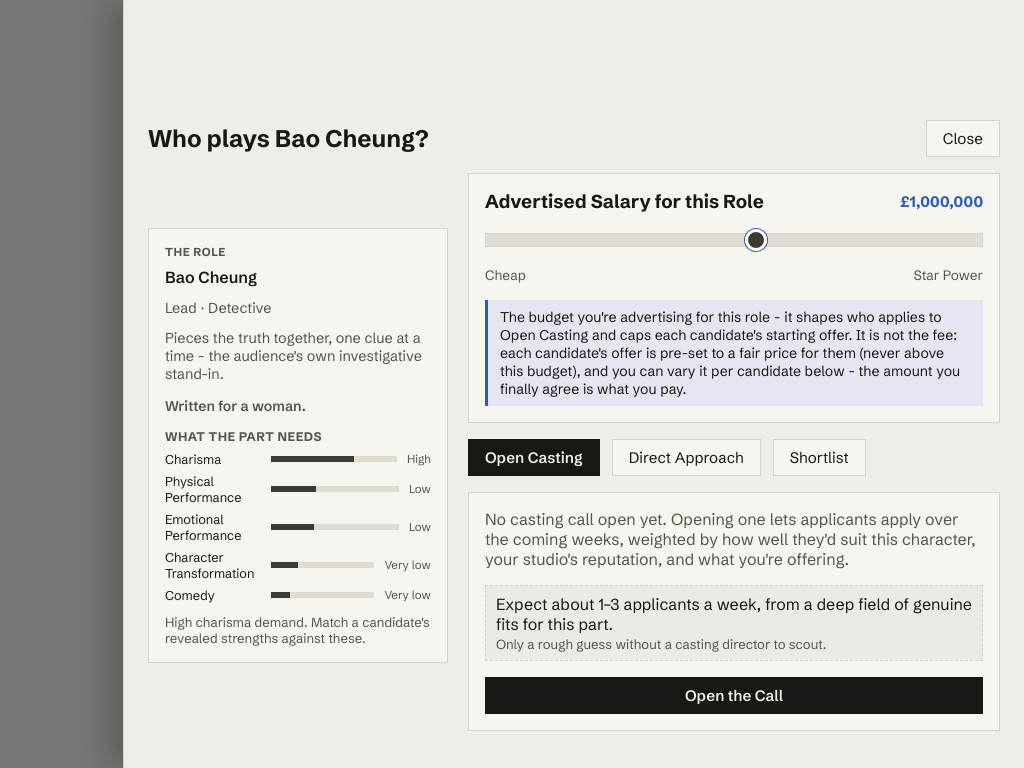
Test: CastingDrawer - discovery controls › paginates the Direct Approach pool instead of dumping or capping it
This screenshot has width=1024, height=768.
Step 1. Click the button "Direct Approach" → (686, 458), box [612, 439, 761, 476]
(page scrolled)
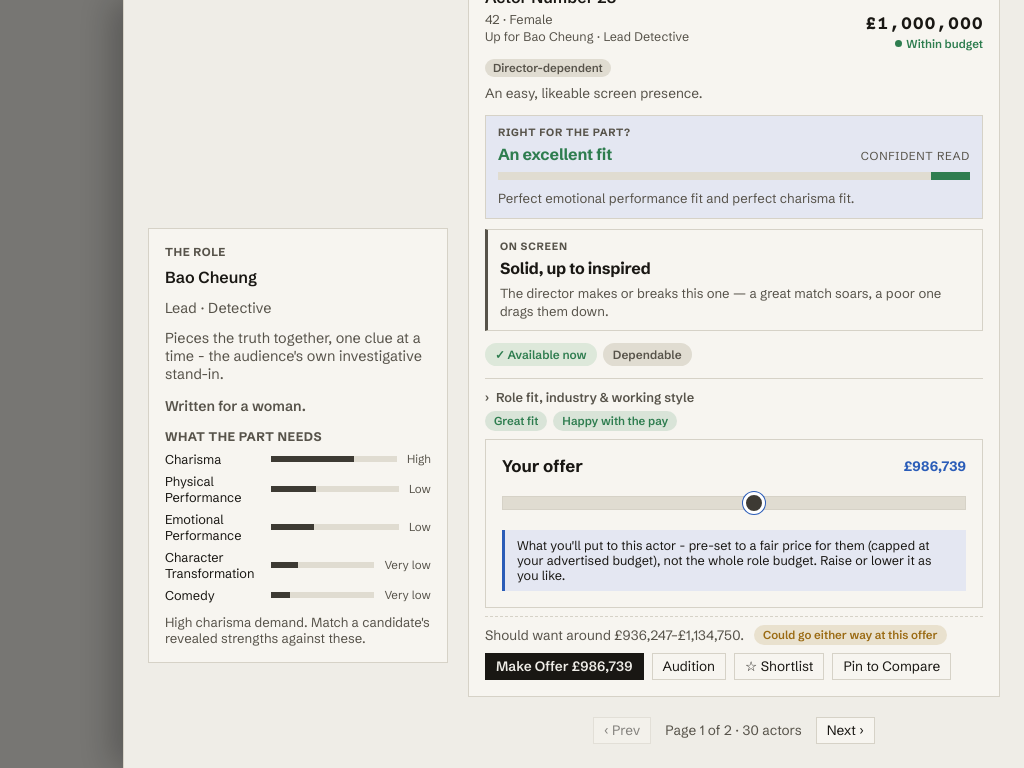
Expected: the text "Page 1 of 2 · 30 actors" is shown, [665, 722, 802, 739]
Step 2. Click the button "Next ›" → (845, 731), box [816, 717, 874, 744]
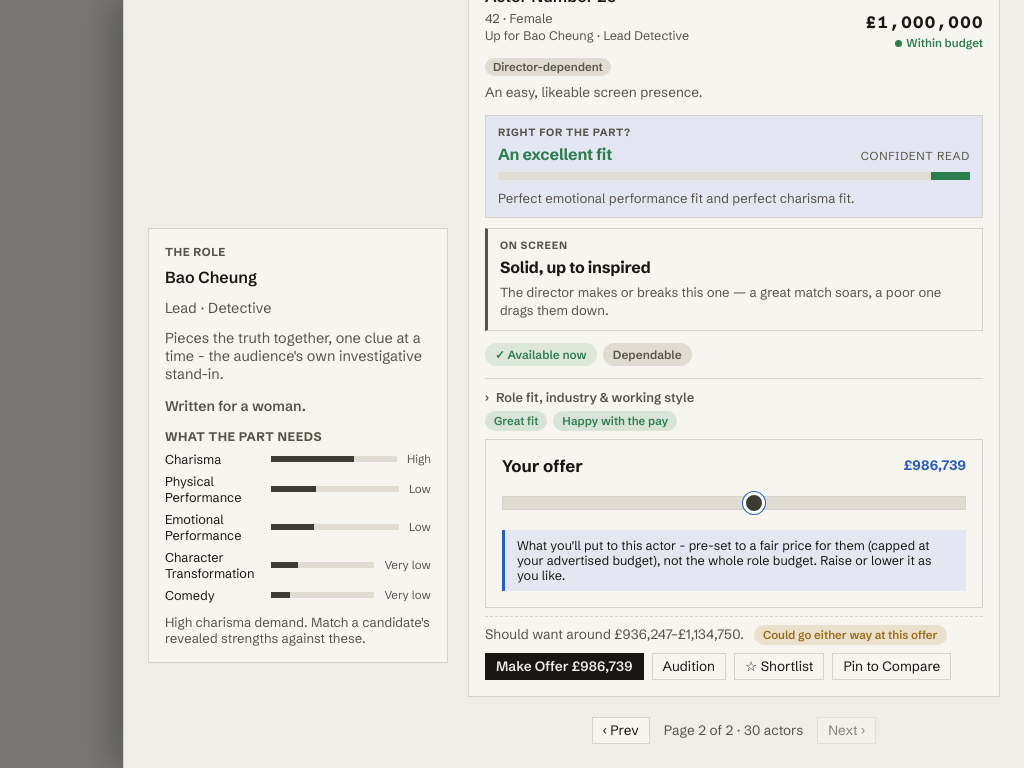
Expected: the text "Page 2 of 2 · 30 actors" is shown, [664, 722, 803, 739]
